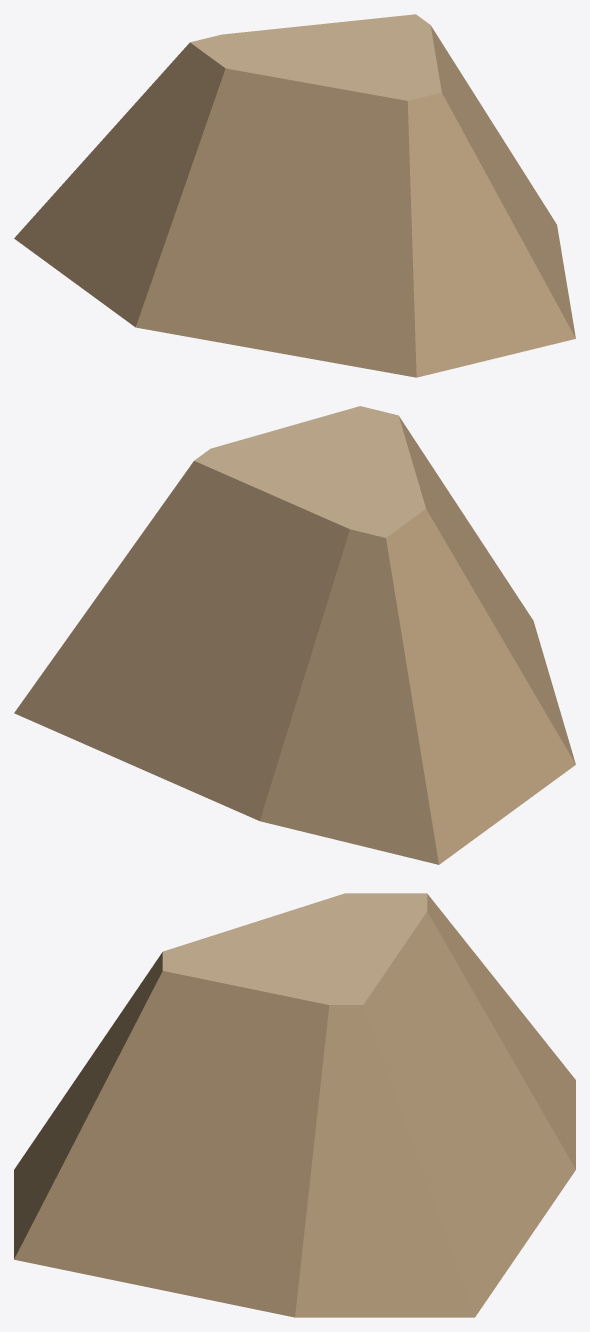
The model's file is rock_sand_b.glb.
3 views of the same model, one above another, from view 1: azimuth 30°, elevation 25°; view 2: azimuth 150°, elevation 25°; view 3: azimuth 270°, elevation 25° (orthographic). The views are drawn at different scales.
Parts seen in each view (by area): view 1: rock_sand_b; view 2: rock_sand_b; view 3: rock_sand_b.
Boxes of the visible parts, x1,y1,x2,y2 form: rock_sand_b: [14, 14, 575, 377]; rock_sand_b: [14, 406, 575, 864]; rock_sand_b: [14, 893, 575, 1317].
Bounding box in the file's own units: 11 × 5.39 × 11.
